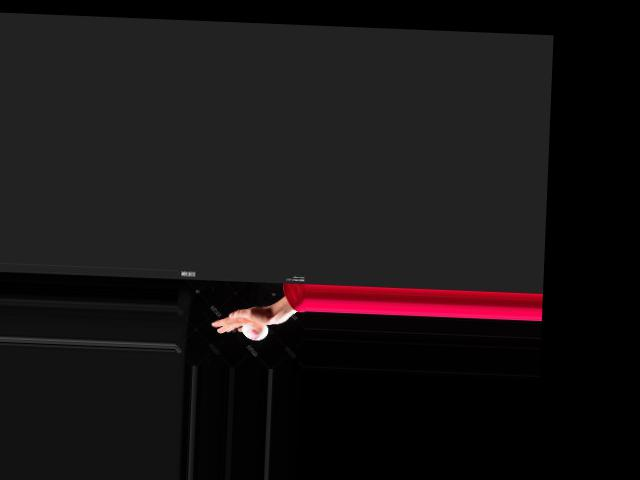egg: (242, 322, 269, 340)
